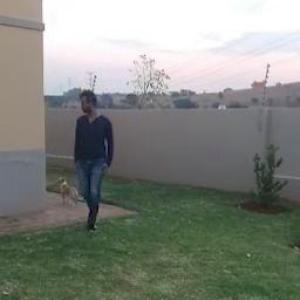follow: (69, 87, 113, 234)
